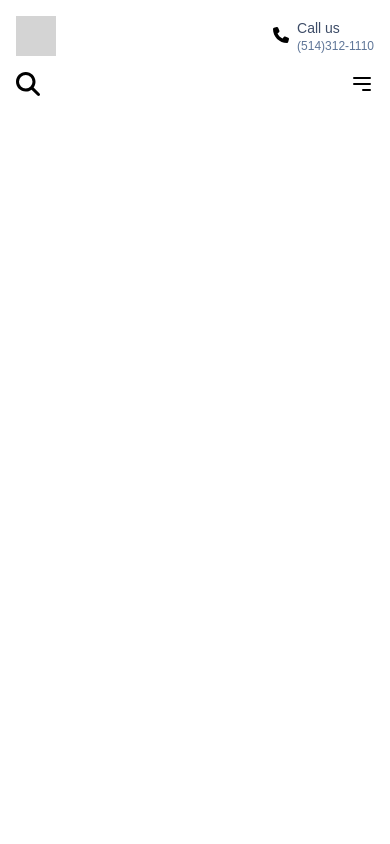
Test case: closes the mobile menu after selecting a navigation link
The width and height of the screenshot is (390, 844).
What coordinates should you click on to do the following:
click the button named "open menu"
I would click on:
 (362, 84)
Its box is [350,72,374,96].
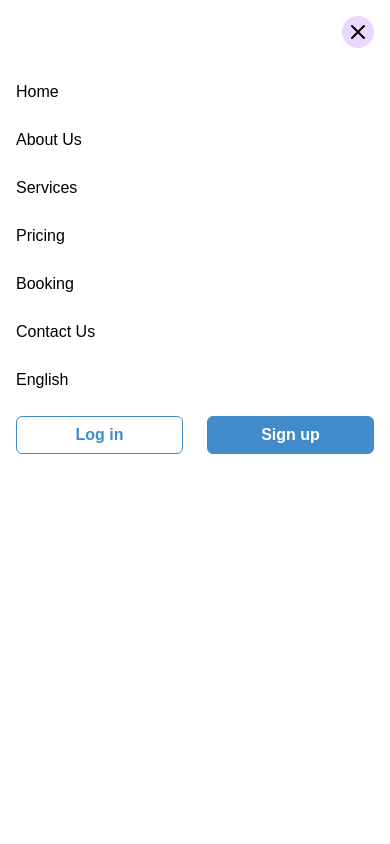
What coordinates should you click on to do the following:
click the link "About Us"
I would click on:
 (49, 140)
Its box is [16,131,82,148].
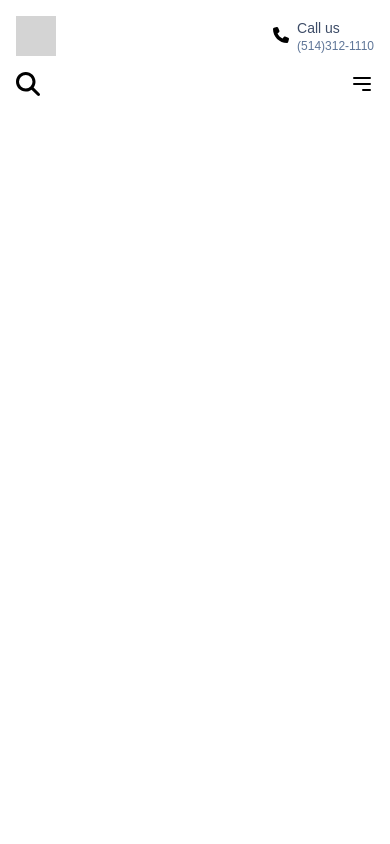
Check: the button named "open menu" is collapsed, box [350,72,374,96]
